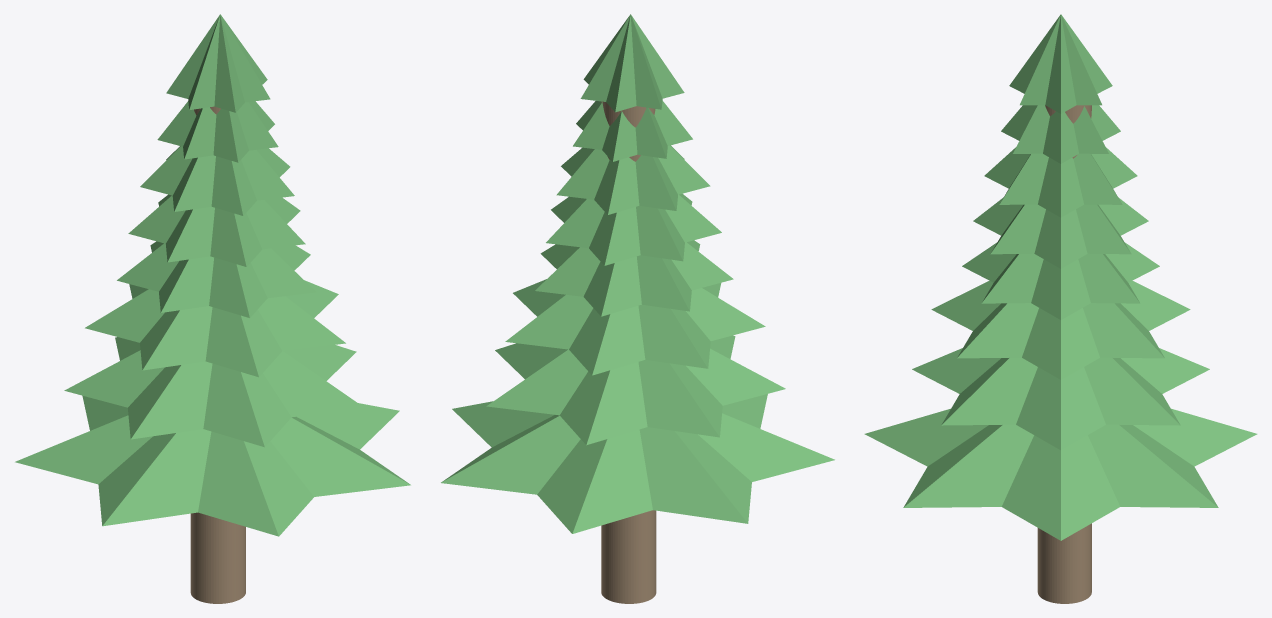
The model's file is tree_1.glb.
3 views of the same model, side by side, from view 1: azimuth 30°, elevation 25°; view 2: azimuth 150°, elevation 25°; view 3: azimuth 270°, elevation 25° (orthographic).
Parts seen in each view (by area): view 1: Mesh_Mesh_head_geo.001_lambert2SG.001; view 2: Mesh_Mesh_head_geo.001_lambert2SG.001; view 3: Mesh_Mesh_head_geo.001_lambert2SG.001.
Part boxes in pixels (left/top/right/bottom): Mesh_Mesh_head_geo.001_lambert2SG.001: left=15, top=14, right=410, bottom=603; Mesh_Mesh_head_geo.001_lambert2SG.001: left=441, top=14, right=834, bottom=603; Mesh_Mesh_head_geo.001_lambert2SG.001: left=864, top=14, right=1257, bottom=603.
Size of the model in its own units: 28 by 45.39 by 28.
